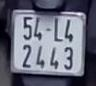2: (19, 44, 32, 69)
3: (63, 45, 75, 72)
4: (48, 45, 60, 70), (65, 17, 76, 43), (35, 44, 46, 69), (34, 16, 44, 42)
5: (21, 16, 33, 41)
L: (51, 16, 64, 43)
